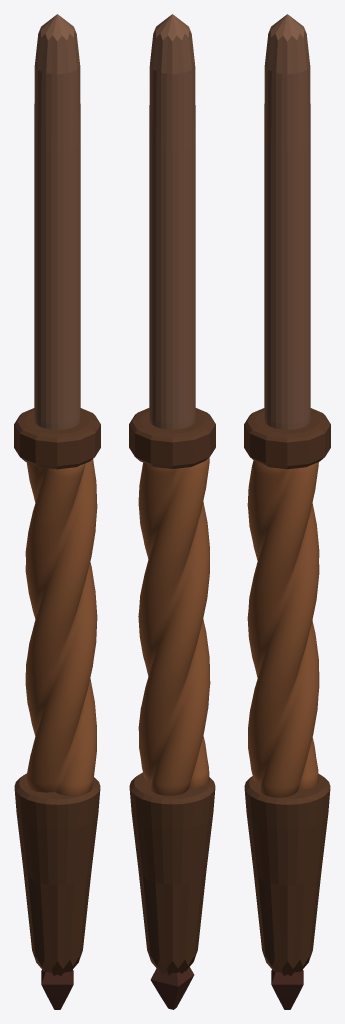
Rendered from Wand 815.glb.
3 views of the same model, side by side, from view 1: azimuth 90°, elevation 25°; view 2: azimuth 150°, elevation 25°; view 3: azimuth 270°, elevation 25° (orthographic).
Visible parts, largest first — view 1: GeneratedWand; view 2: GeneratedWand; view 3: GeneratedWand.
Part boxes in pixels (<box>): GeneratedWand: <box>14,14,100,1009</box>; GeneratedWand: <box>129,14,215,1009</box>; GeneratedWand: <box>244,14,330,1009</box>.
Bounding box in the file's own units: 0.0398 × 0.5025 × 0.0398.
